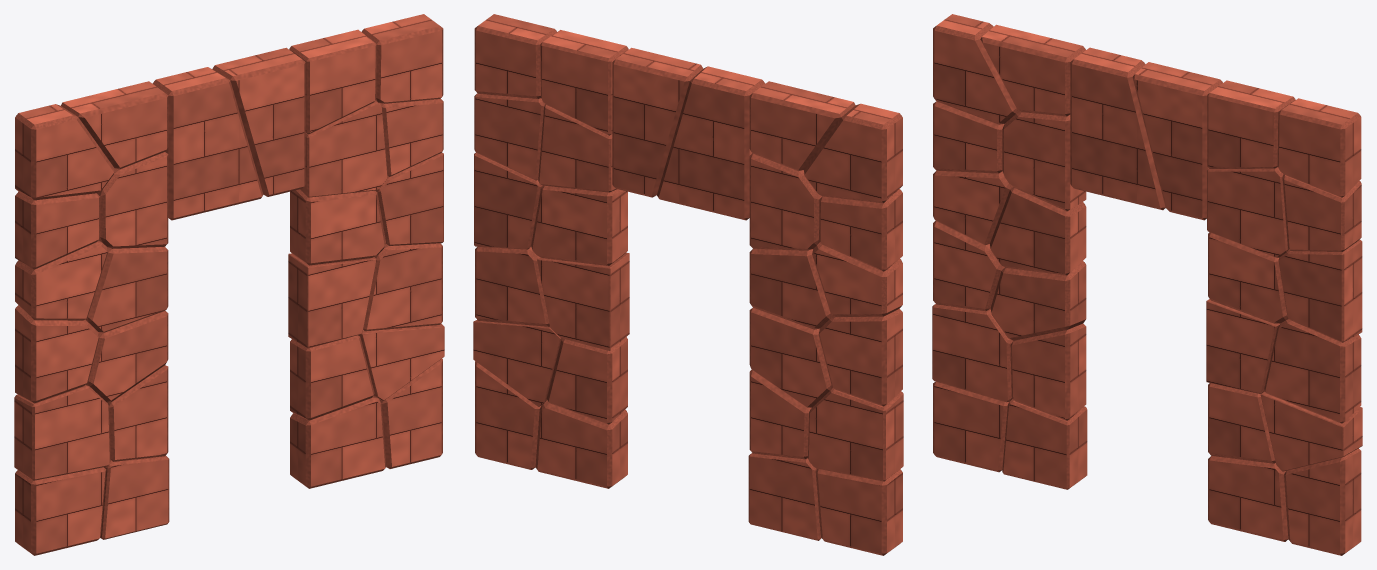
Rendered from Kit_Brick_WallDoor_Fractured.fbx.
3 views of the same model, side by side, from view 1: azimuth 30°, elevation 25°; view 2: azimuth 150°, elevation 25°; view 3: azimuth 330°, elevation 25° (orthographic).
Visible parts, largest first — view 1: Kit_Brick_WallDoor_frag_25, Kit_Brick_WallDoor_frag_26, Kit_Brick_WallDoor_frag_02, Kit_Brick_WallDoor_frag_06, Kit_Brick_WallDoor_frag_13, Kit_Brick_WallDoor_frag_15, Kit_Brick_WallDoor_frag_01, Kit_Brick_WallDoor_frag_16, Kit_Brick_WallDoor_frag_17, Kit_Brick_WallDoor_frag_18, Kit_Brick_WallDoor_frag_03, Kit_Brick_WallDoor_frag_12 (+14 smaller); view 2: Kit_Brick_WallDoor_frag_25, Kit_Brick_WallDoor_frag_26, Kit_Brick_WallDoor_frag_06, Kit_Brick_WallDoor_frag_02, Kit_Brick_WallDoor_frag_15, Kit_Brick_WallDoor_frag_16, Kit_Brick_WallDoor_frag_03, Kit_Brick_WallDoor_frag_18, Kit_Brick_WallDoor_frag_01, Kit_Brick_WallDoor_frag_12, Kit_Brick_WallDoor_frag_13, Kit_Brick_WallDoor_frag_11 (+14 smaller); view 3: Kit_Brick_WallDoor_frag_25, Kit_Brick_WallDoor_frag_26, Kit_Brick_WallDoor_frag_21, Kit_Brick_WallDoor_frag_24, Kit_Brick_WallDoor_frag_19, Kit_Brick_WallDoor_frag_22, Kit_Brick_WallDoor_frag_10, Kit_Brick_WallDoor_frag_02, Kit_Brick_WallDoor_frag_06, Kit_Brick_WallDoor_frag_12, Kit_Brick_WallDoor_frag_17, Kit_Brick_WallDoor_frag_18 (+14 smaller).
Boxes of the visible parts, x1,y1,x2,y2 form: Kit_Brick_WallDoor_frag_25: (152, 67, 263, 220); Kit_Brick_WallDoor_frag_26: (212, 47, 305, 196); Kit_Brick_WallDoor_frag_02: (14, 384, 110, 480); Kit_Brick_WallDoor_frag_06: (15, 104, 114, 200); Kit_Brick_WallDoor_frag_13: (290, 396, 386, 488); Kit_Brick_WallDoor_frag_15: (288, 253, 376, 348); Kit_Brick_WallDoor_frag_01: (15, 467, 106, 555); Kit_Brick_WallDoor_frag_16: (290, 189, 385, 265); Kit_Brick_WallDoor_frag_17: (300, 100, 387, 197); Kit_Brick_WallDoor_frag_18: (289, 29, 376, 134); Kit_Brick_WallDoor_frag_03: (15, 305, 99, 403); Kit_Brick_WallDoor_frag_12: (61, 81, 168, 169); Kit_Brick_WallDoor_frag_25: (657, 66, 765, 220); Kit_Brick_WallDoor_frag_26: (612, 47, 703, 197); Kit_Brick_WallDoor_frag_06: (804, 103, 902, 203); Kit_Brick_WallDoor_frag_02: (808, 388, 903, 481); Kit_Brick_WallDoor_frag_15: (537, 252, 629, 350); Kit_Brick_WallDoor_frag_16: (531, 185, 627, 265); Kit_Brick_WallDoor_frag_03: (818, 308, 902, 406); Kit_Brick_WallDoor_frag_18: (540, 30, 628, 135); Kit_Brick_WallDoor_frag_01: (815, 469, 902, 555); Kit_Brick_WallDoor_frag_12: (749, 81, 855, 171); Kit_Brick_WallDoor_frag_13: (535, 400, 627, 488); Kit_Brick_WallDoor_frag_11: (749, 153, 822, 250); Kit_Brick_WallDoor_frag_25: (1070, 47, 1165, 210); Kit_Brick_WallDoor_frag_26: (1132, 62, 1222, 220); Kit_Brick_WallDoor_frag_21: (1264, 319, 1361, 423); Kit_Brick_WallDoor_frag_24: (1277, 98, 1361, 197); Kit_Brick_WallDoor_frag_19: (1284, 448, 1361, 555); Kit_Brick_WallDoor_frag_22: (1278, 239, 1362, 342); Kit_Brick_WallDoor_frag_10: (990, 187, 1086, 275); Kit_Brick_WallDoor_frag_02: (932, 304, 1012, 402); Kit_Brick_WallDoor_frag_06: (933, 14, 1019, 124); Kit_Brick_WallDoor_frag_12: (980, 24, 1085, 116); Kit_Brick_WallDoor_frag_17: (1207, 167, 1288, 257); Kit_Brick_WallDoor_frag_18: (1207, 80, 1295, 168).
Size of what is drawn, in the model's own units: 3 by 3 by 0.25.
Materials: 2 (2 with a texture image).
